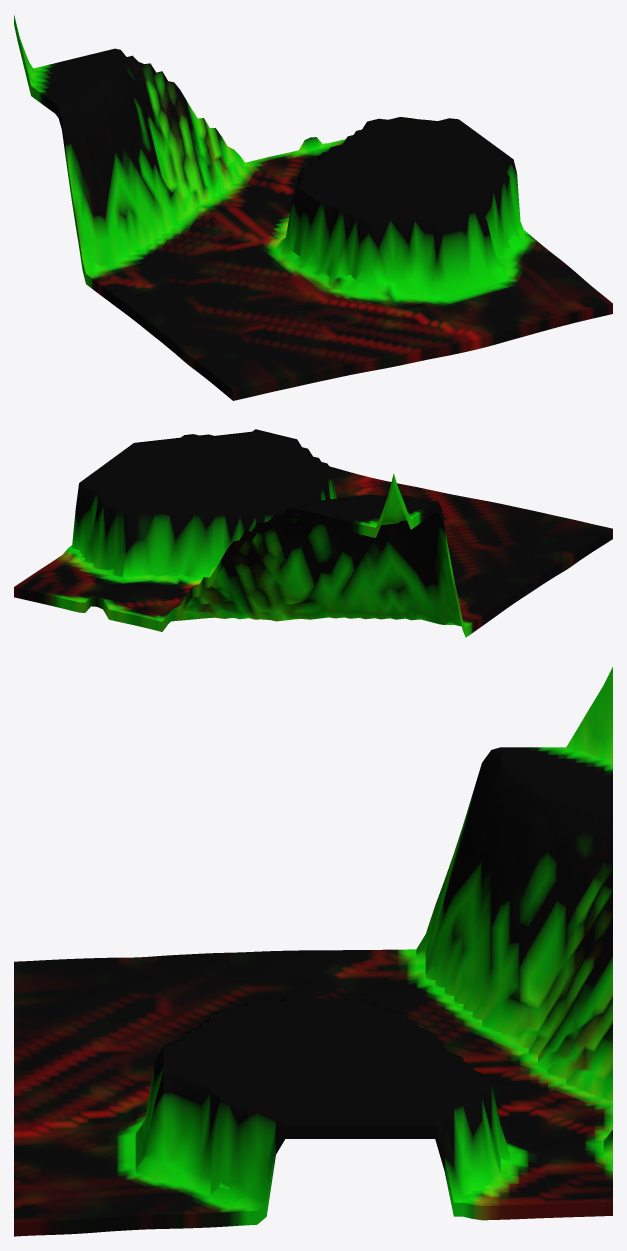
The model's file is Terrain_01_05.fbx.
3 renders of one model, top to bottom at view 1: azimuth 30°, elevation 25°; view 2: azimuth 150°, elevation 25°; view 3: azimuth 270°, elevation 25°, orthographic. The views are drawn at different scales.
Parts seen in each view (by area): view 1: Terrain_01_05_LOD0; view 2: Terrain_01_05_LOD0; view 3: Terrain_01_05_LOD0.
Boxes of the visible parts, <box> form: Terrain_01_05_LOD0: <box>14,15,612,400</box>; Terrain_01_05_LOD0: <box>14,429,612,637</box>; Terrain_01_05_LOD0: <box>14,667,612,1236</box>.
Size of what is drawn, in the model's own units: 384 by 226 by 384.
